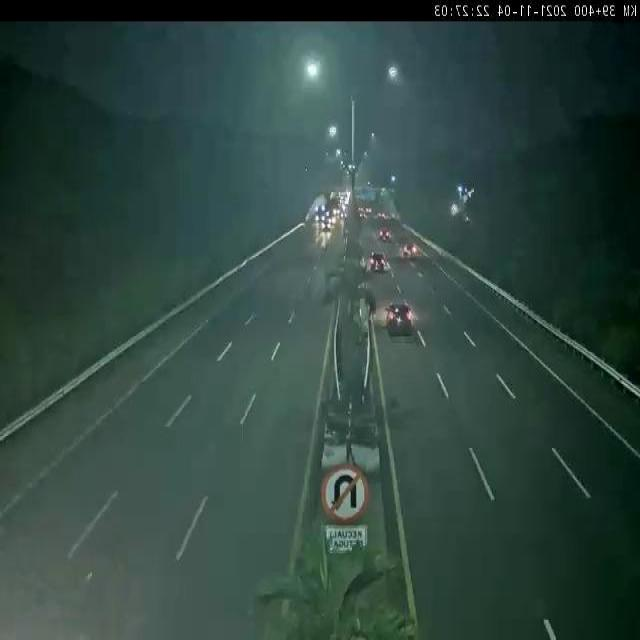Car: (385, 292, 420, 346), (398, 236, 423, 269), (367, 247, 390, 278), (374, 222, 394, 246)
